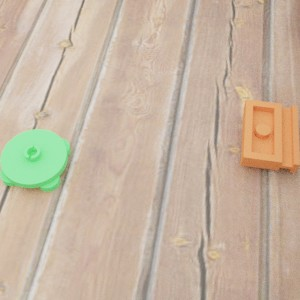lego: (0, 129, 70, 191), (240, 99, 299, 172)
